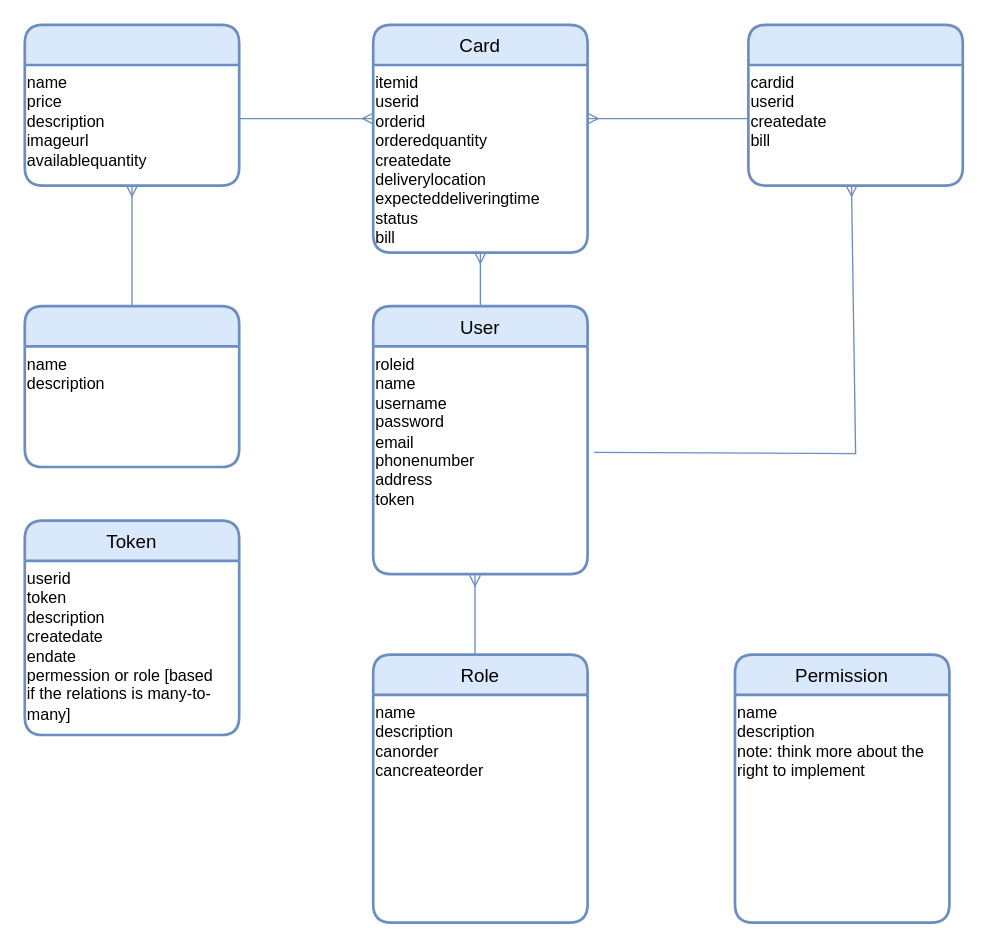
Image size: 986x946. Some labels were removed from this diagram. The shapes that lost their labels are listed below. From the top down, each one's box as (x1, y1, x2, y2) in pixels, then its label:
(23, 23, 240, 186): Item
(746, 23, 963, 186): Order
(23, 304, 240, 468): Category
